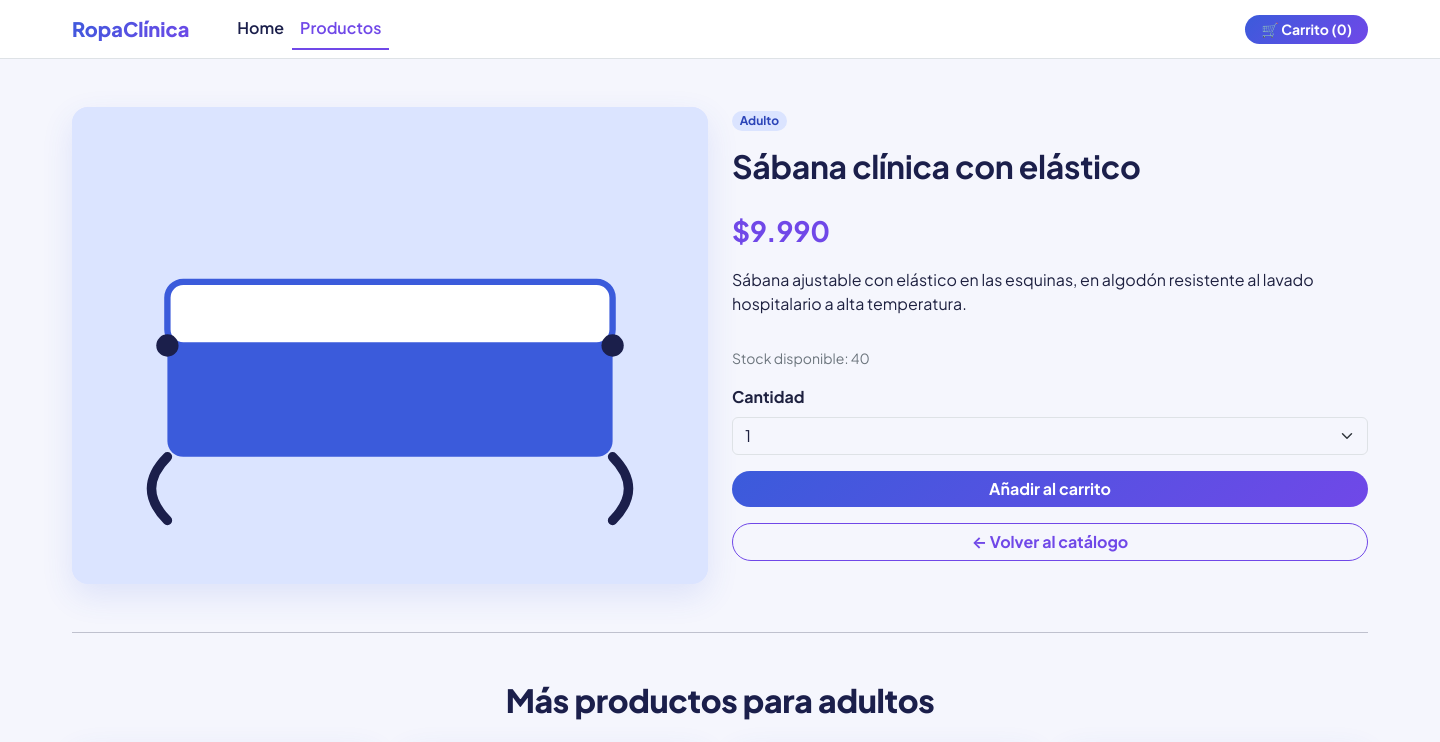
Formulario de pedido (validación) › valida el correo en tiempo real
Step 1. Click the button "Añadir al carrito" → x=1050, y=489, box top-left (732, 471), bottom-right (1368, 507)
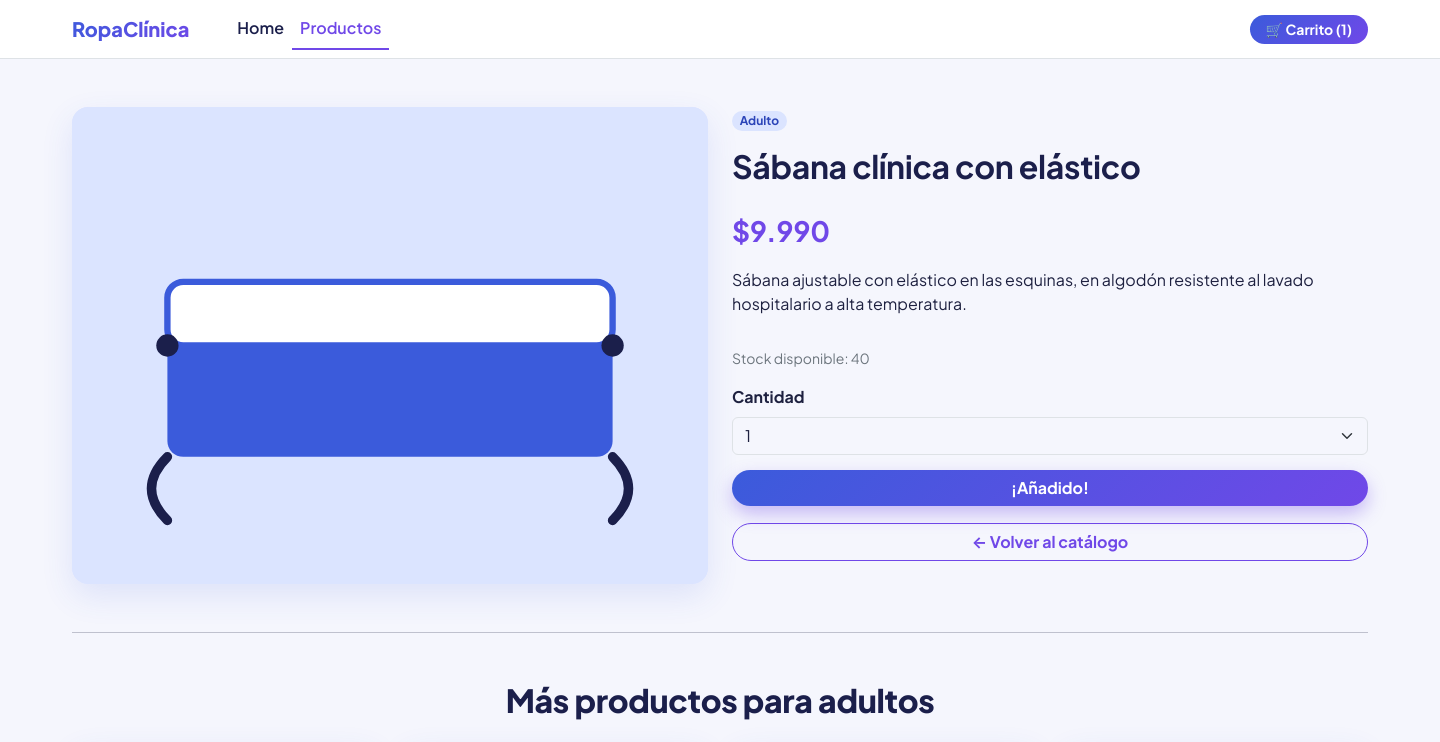
Step 2. Click the link "🛒 Carrito (1)" → x=1309, y=29, box top-left (1250, 14), bottom-right (1368, 44)
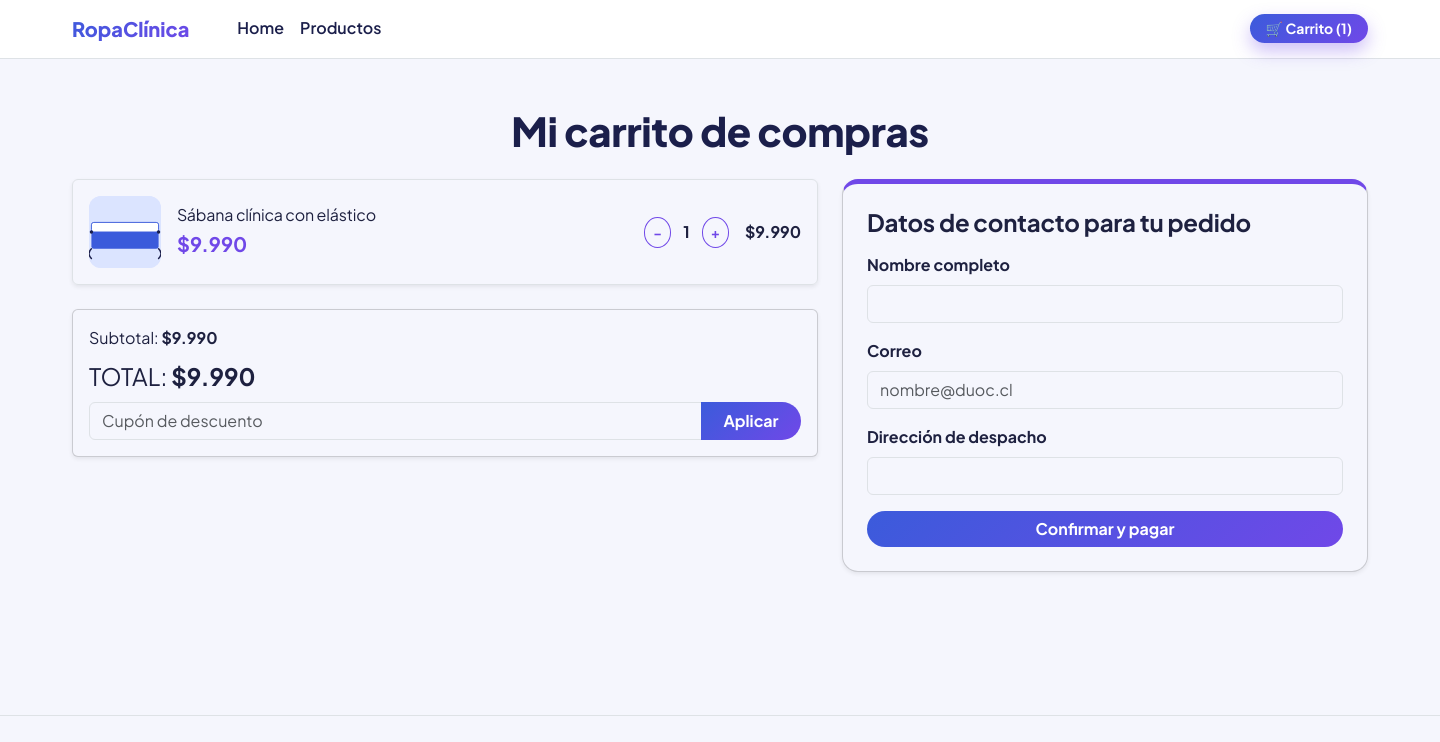
Step 3. Type "jairo@hotmail.com" into the field labelled "Correo" → x=1105, y=390, box top-left (867, 371), bottom-right (1343, 409)
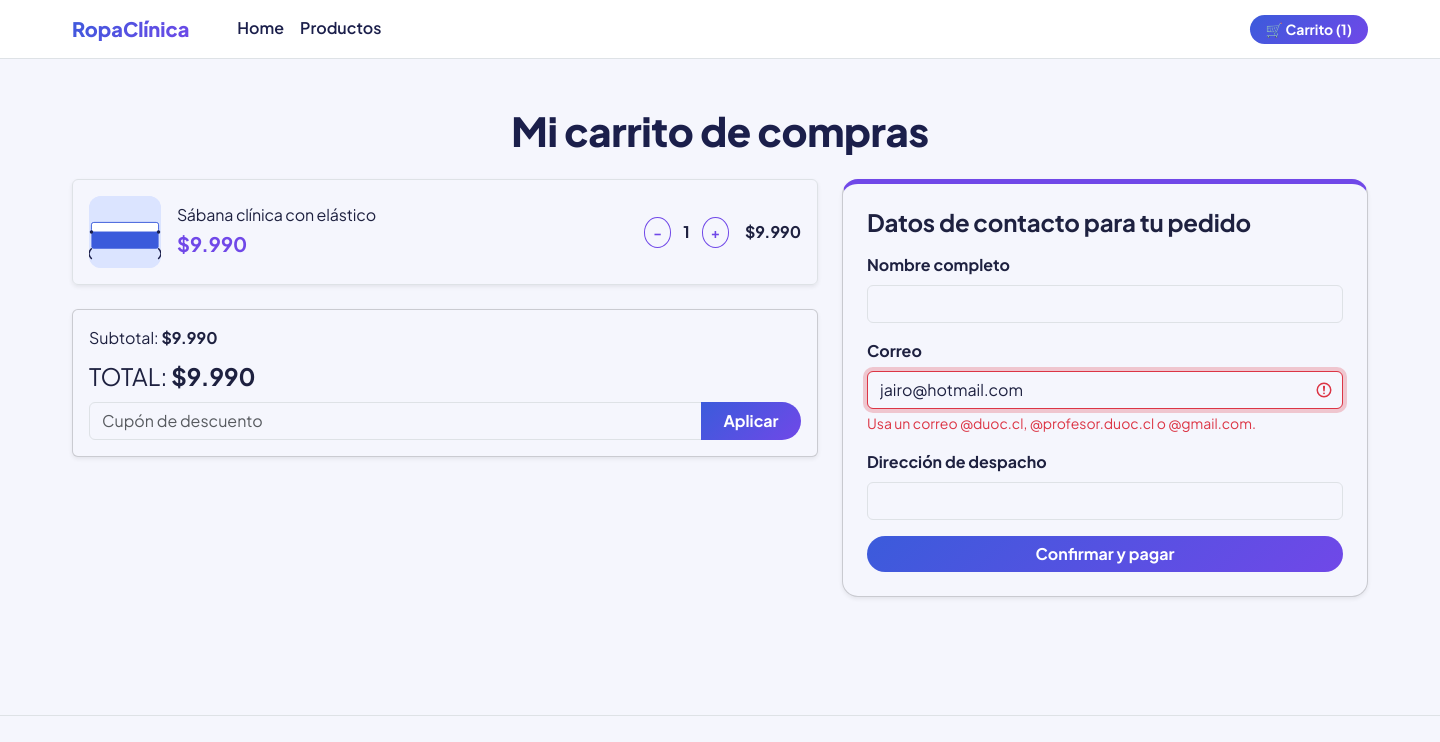
Now the text "Usa un correo @duoc.cl, @profesor.duoc.cl o @gmail.com." is shown, box top-left (867, 414), bottom-right (1256, 432)
